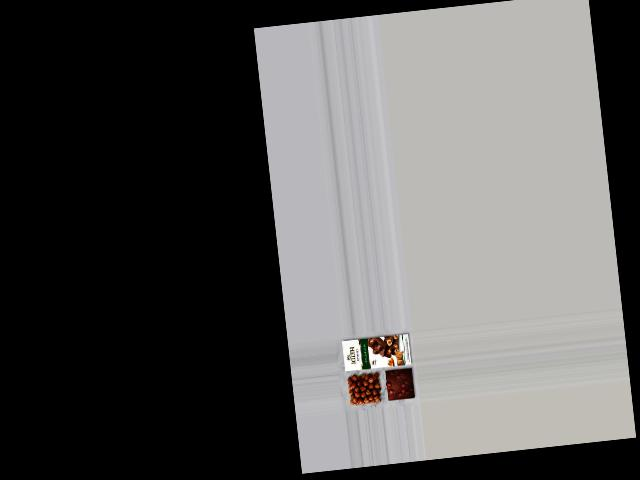chocolate: (384, 366, 416, 404)
